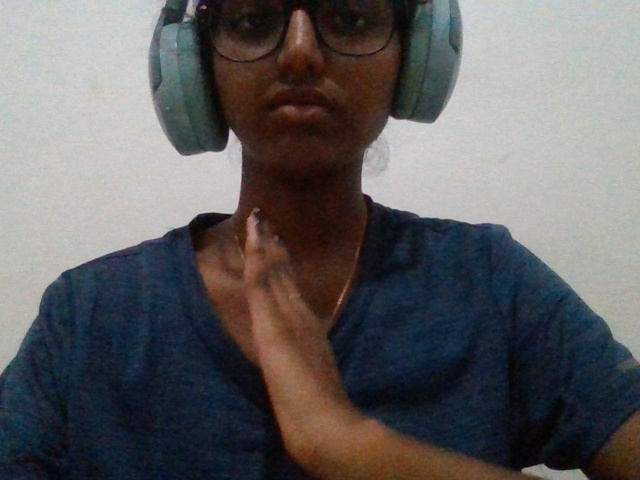Fine: (212, 202, 457, 475)
